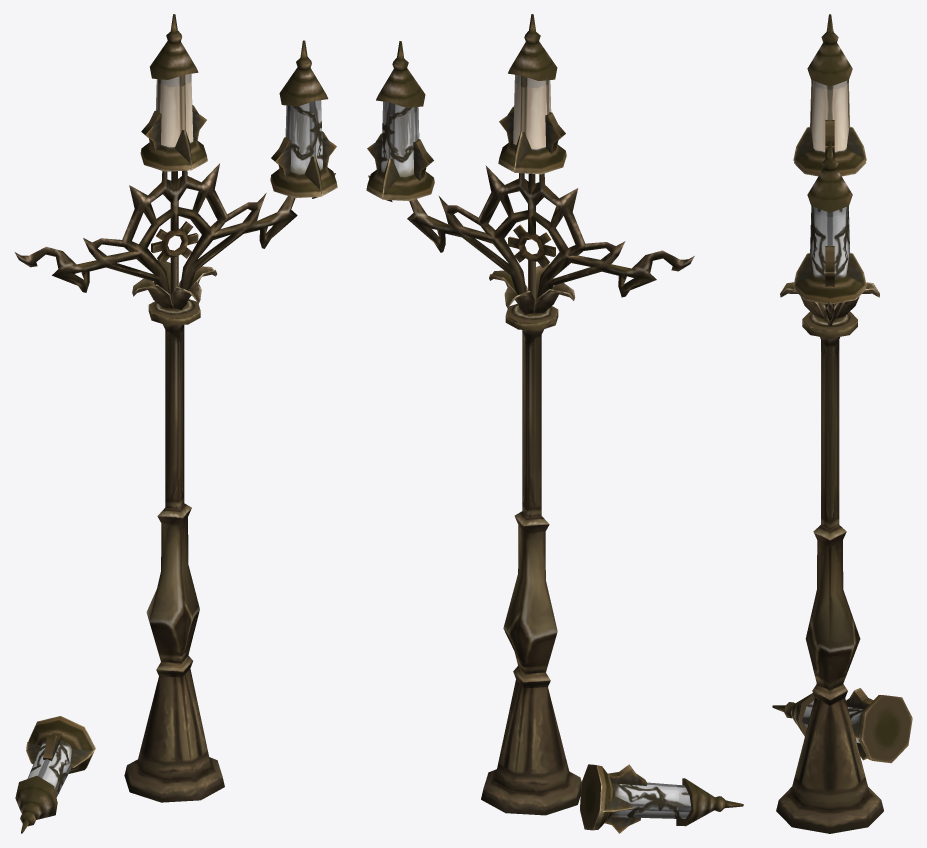
File: SM_Plains_ludeng04.FBX
3 views of the same model, side by side, from view 1: azimuth 30°, elevation 25°; view 2: azimuth 150°, elevation 25°; view 3: azimuth 270°, elevation 25° (orthographic). The views are drawn at different scales.
Parts seen in each view (by area): view 1: SM_Plains_ludeng04; view 2: SM_Plains_ludeng04; view 3: SM_Plains_ludeng04.
Boxes of the visible parts, x1=… form: SM_Plains_ludeng04: x1=14, y1=14, x2=337, y2=833; SM_Plains_ludeng04: x1=366, y1=14, x2=743, y2=833; SM_Plains_ludeng04: x1=772, y1=14, x2=912, y2=833.
Size of the model in its own units: 301 by 645 by 103.
